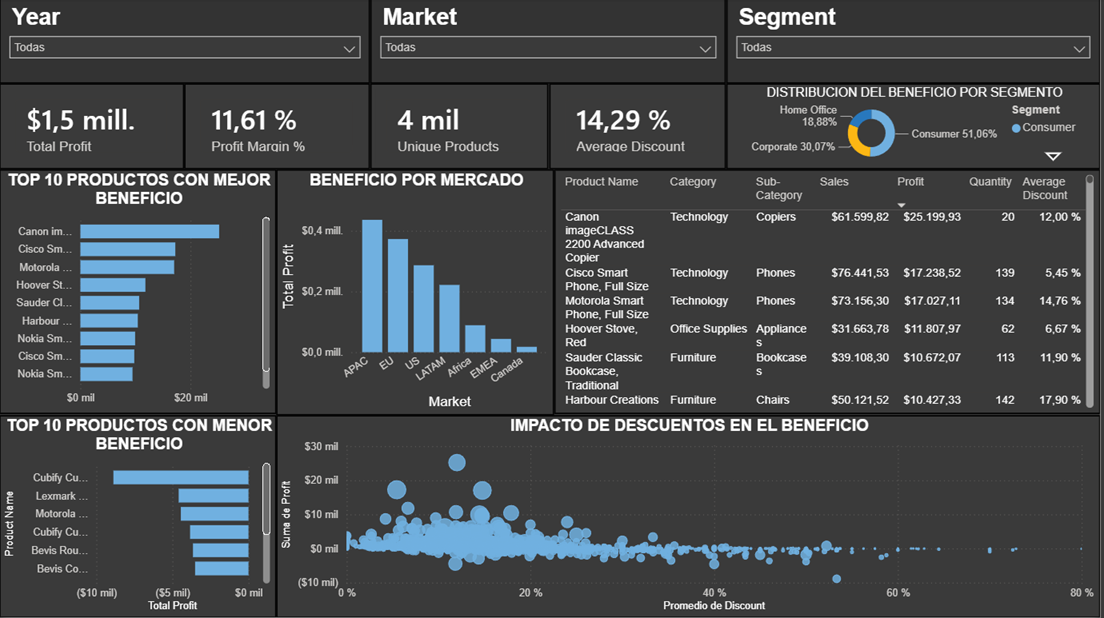

What the dashboard file says about the page in this screenshot:
{"tool":"powerbi","page":{"name":"Profitability Analysis","canvas":[1280,720],"ordinal":1},"visuals":[{"type":"slicer","fields":{"Values":["Calendar.Year"]},"box":[0,0,431.4,98.8],"z":0},{"type":"slicer","fields":{"Values":["Orders.Market"]},"box":[431.4,0,414,98.8],"z":1000},{"type":"slicer","fields":{"Values":["Orders.Segment"]},"box":[845.1,0,434.9,98.8],"z":2000},{"type":"cardVisual","fields":{"Data":["Orders.Total Profit"]},"box":[0,98.8,215,100],"z":3000},{"type":"cardVisual","fields":{"Data":["Orders.Profit Margin %"]},"box":[215.1,98.8,216.3,100],"z":4000},{"type":"cardVisual","fields":{"Data":["Orders.Unique Products"]},"box":[431.4,98.8,207,100],"z":5000},{"type":"cardVisual","fields":{"Data":["Orders.Average Discount"]},"box":[639.5,98.8,205.8,100],"z":6000},{"type":"barChart","title":"TOP 10 PRODUCTOS CON MEJOR BENEFICIO","fields":{"Category":["Orders.Product Name"],"Y":["Orders.Total Profit"]},"box":[0,198.8,322.1,284.9],"z":7000},{"type":"barChart","title":"TOP 10 PRODUCTOS CON MENOR BENEFICIO","fields":{"Category":["Orders.Product Name"],"Y":["Orders.Total Profit"]},"box":[0,484.4,322.5,236],"z":8000},{"type":"columnChart","title":"BENEFICIO POR MERCADO","fields":{"Category":["Orders.Market"],"Y":["Orders.Total Profit"]},"box":[322.1,198.8,323.3,286],"z":9000},{"type":"donutChart","title":"DISTRIBUCION DEL BENEFICIO POR SEGMENTO","fields":{"Category":["Orders.Segment"],"Y":["Orders.Total Profit"]},"box":[845.4,98.8,434.9,100],"z":10000},{"type":"scatterChart","title":"IMPACTO DE DESCUENTOS EN EL BENEFICIO","fields":{"Size":["Sum(Orders.Sales)"],"X":["Avg(Orders.Discount)"],"Y":["Sum(Orders.Profit)"],"Category":["Orders.Product Name"]},"box":[322.1,484.9,958.1,236],"z":11000},{"type":"tableEx","fields":{"Values":["Orders.Product Name","Orders.Category","Orders.Sub-Category","Sum(Orders.Sales)","Sum(Orders.Profit)","Sum(Orders.Quantity)","Orders.Average Discount"]},"box":[645.4,198.8,634.9,284.9],"z":12000}]}

Visuals, with their boxes in screenshot pixels (x1, y1, x2, y2), scaled from the page's 1280x720 canvas onto the 1104x618 screenshot:
slicer - Calendar.Year: detection(0, 0, 372, 85)
slicer - Orders.Market: detection(372, 0, 729, 85)
slicer - Orders.Segment: detection(729, 0, 1103, 85)
cardVisual - Orders.Total Profit: detection(0, 85, 185, 171)
cardVisual - Orders.Profit Margin %: detection(186, 85, 372, 171)
cardVisual - Orders.Unique Products: detection(372, 85, 551, 171)
cardVisual - Orders.Average Discount: detection(552, 85, 729, 171)
"TOP 10 PRODUCTOS CON MEJOR BENEFICIO" barChart: detection(0, 171, 278, 415)
"TOP 10 PRODUCTOS CON MENOR BENEFICIO" barChart: detection(0, 416, 278, 617)
"BENEFICIO POR MERCADO" columnChart: detection(278, 171, 557, 416)
"DISTRIBUCION DEL BENEFICIO POR SEGMENTO" donutChart: detection(729, 85, 1103, 171)
"IMPACTO DE DESCUENTOS EN EL BENEFICIO" scatterChart: detection(278, 416, 1103, 617)
tableEx - Orders.Product Name x Orders.Category: detection(557, 171, 1103, 415)
